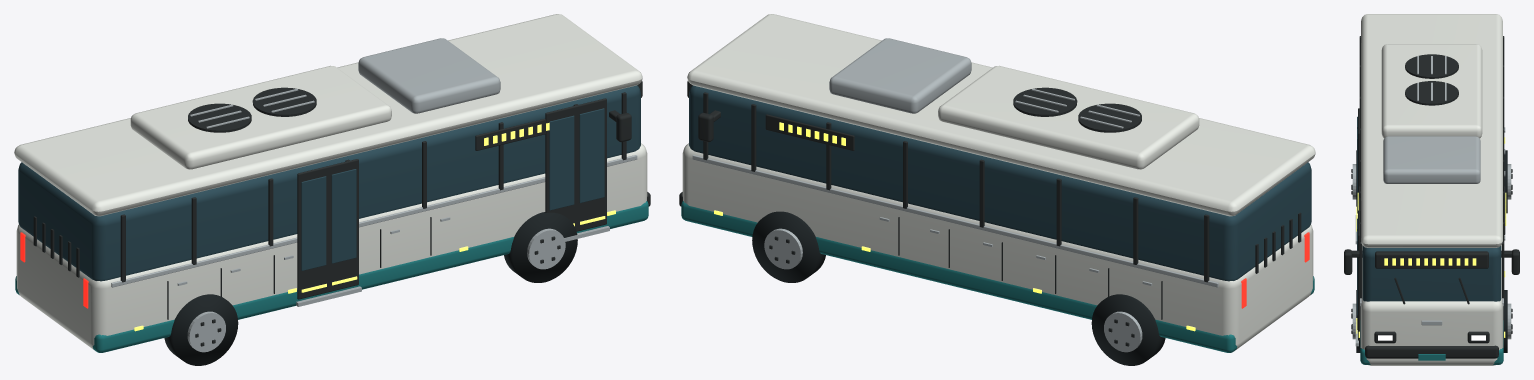
File: city-bus-v1.glb
3 renders of one model, left to right at view 1: azimuth 30°, elevation 25°; view 2: azimuth 150°, elevation 25°; view 3: azimuth 270°, elevation 25°, orthographic. The views are drawn at different scales.
Visible parts, largest first — view 1: Continuous window band, Roof shell, Low floor body, Roof battery pod, HVAC pod, Lower green skirt, Passenger door.001, Passenger door, Road wheel rear_left, Road wheel front_left, Door glass.001, Door glass.003 (+8 smaller); view 2: Continuous window band, Low floor body, Roof shell, Roof battery pod, Lower green skirt, HVAC pod, Shoulder trim.001, Road wheel front_right, Road wheel rear_right, Cylinder.001, Cylinder, Side route display.001 (+2 smaller); view 3: Roof shell, Roof battery pod, Low floor body, Continuous window band, HVAC pod, Destination panel, Bumper, Cylinder, Cylinder.001, Passenger door, Road wheel front_right, Lower green skirt (+13 smaller).
Boxes of the visible parts, x1=… form: Continuous window band: x1=18, y1=85, x2=640, y2=281; Roof shell: x1=14, y1=14, x2=642, y2=216; Low floor body: x1=16, y1=143, x2=647, y2=350; Roof battery pod: x1=130, y1=65, x2=391, y2=169; HVAC pod: x1=358, y1=38, x2=500, y2=113; Lower green skirt: x1=15, y1=201, x2=648, y2=352; Passenger door.001: x1=297, y1=159, x2=358, y2=299; Passenger door: x1=545, y1=98, x2=606, y2=231; Road wheel rear_left: x1=164, y1=294, x2=238, y2=365; Road wheel front_left: x1=504, y1=212, x2=577, y2=282; Door glass.001: x1=579, y1=108, x2=604, y2=202; Door glass.003: x1=331, y1=169, x2=356, y2=263; Continuous window band: x1=689, y1=85, x2=1311, y2=281; Low floor body: x1=682, y1=143, x2=1313, y2=350; Roof shell: x1=687, y1=14, x2=1315, y2=216; Roof battery pod: x1=938, y1=65, x2=1199, y2=169; Lower green skirt: x1=681, y1=201, x2=1314, y2=352; HVAC pod: x1=829, y1=38, x2=971, y2=113; Shoulder trim.001: x1=692, y1=155, x2=1218, y2=287; Road wheel front_right: x1=752, y1=211, x2=825, y2=282; Road wheel rear_right: x1=1091, y1=294, x2=1165, y2=365; Cylinder.001: x1=1013, y1=87, x2=1077, y2=116; Cylinder: x1=1078, y1=103, x2=1141, y2=132; Side route display.001: x1=765, y1=114, x2=854, y2=150; Roof shell: x1=1361, y1=14, x2=1502, y2=247; Roof battery pod: x1=1381, y1=44, x2=1482, y2=138; Low floor body: x1=1360, y1=245, x2=1503, y2=365; Continuous window band: x1=1362, y1=246, x2=1501, y2=301; HVAC pod: x1=1383, y1=136, x2=1480, y2=183; Destination panel: x1=1375, y1=251, x2=1488, y2=268; Bumper: x1=1365, y1=345, x2=1498, y2=358; Cylinder: x1=1405, y1=54, x2=1458, y2=78; Cylinder.001: x1=1405, y1=81, x2=1458, y2=105; Passenger door: x1=1358, y1=210, x2=1360, y2=340; Road wheel front_right: x1=1503, y1=290, x2=1507, y2=352; Lower green skirt: x1=1360, y1=320, x2=1503, y2=364.
Size of the model in its own units: 9.49 by 3.26 by 3.06.
